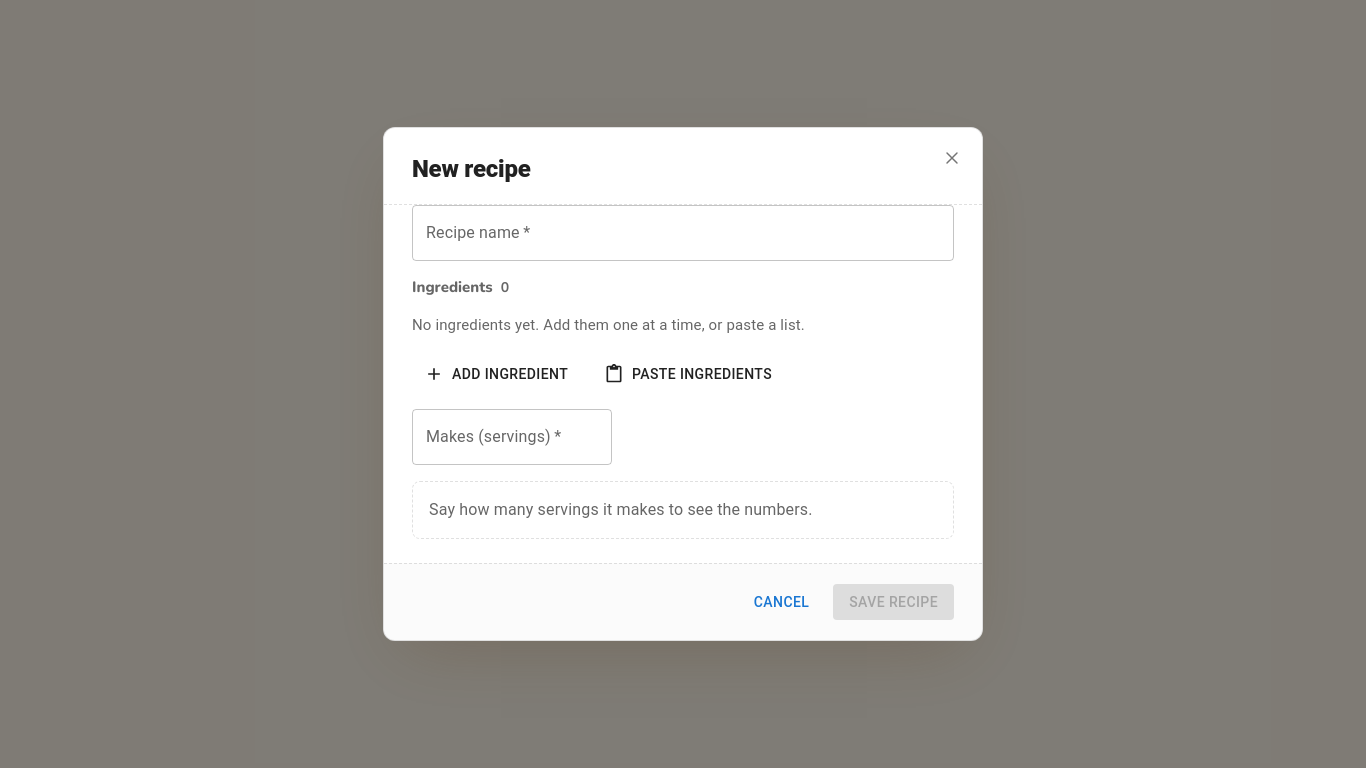
recipe builder: live preview and save › shows per-serving and batch calories from the ingredients and yield
The width and height of the screenshot is (1366, 768).
Click the button "Add ingredient" at (498, 374), box [412, 356, 584, 392]
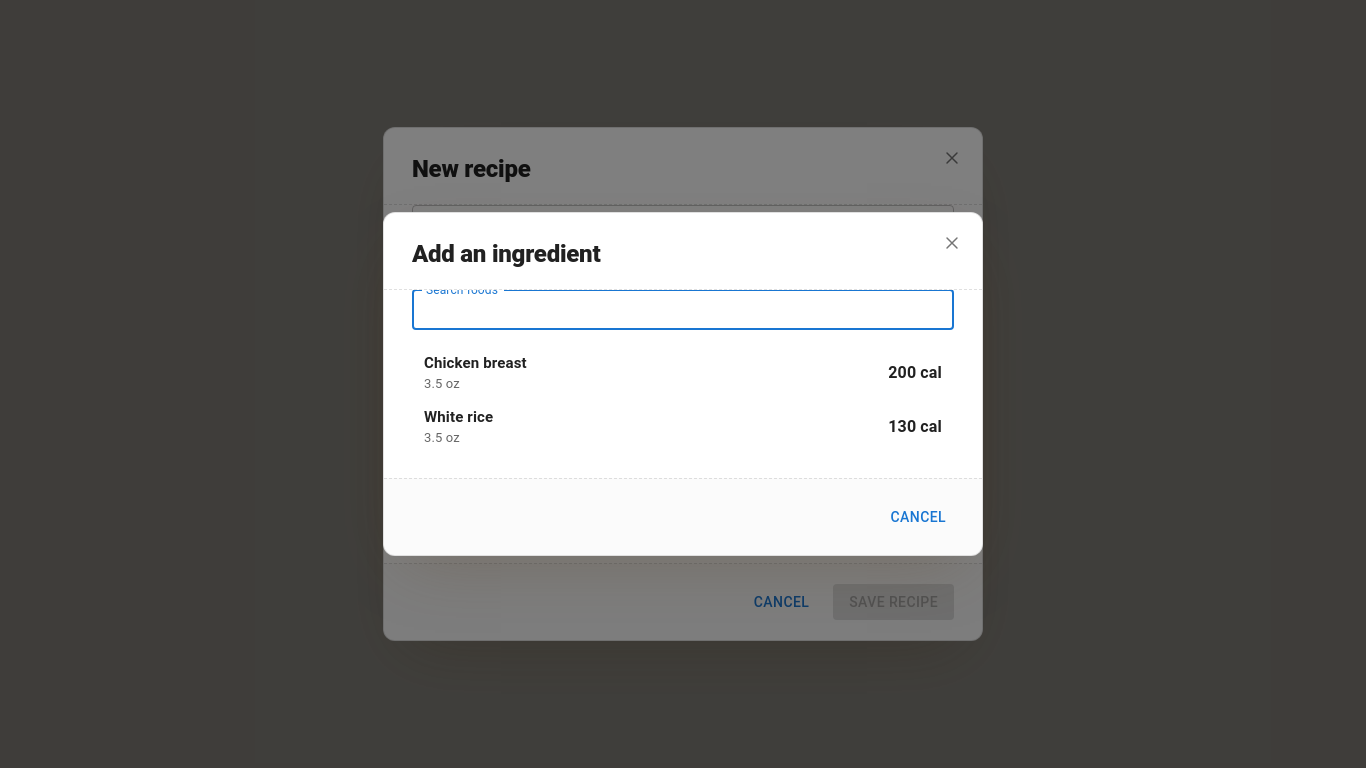
Click the button "Chicken breast 3.5 oz 200 cal" at (475, 363), box [412, 346, 954, 400]
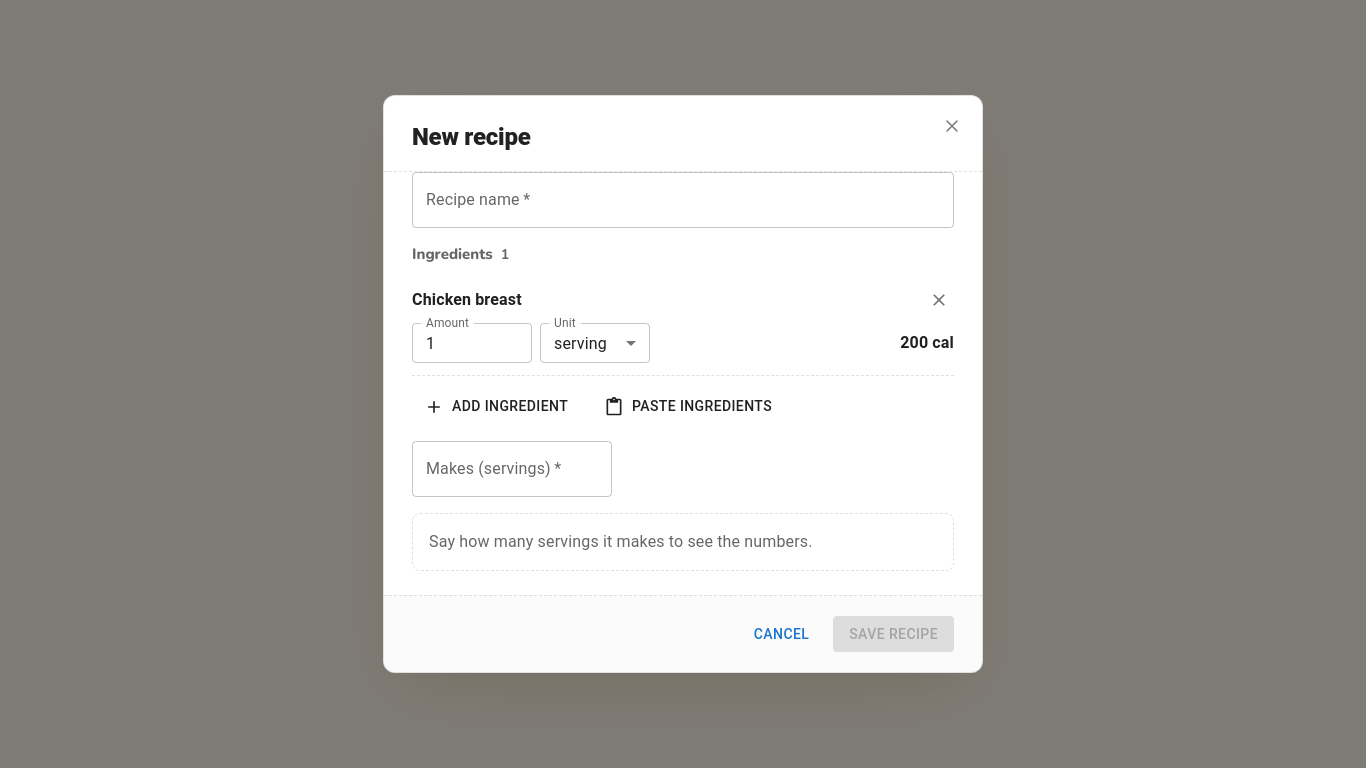
Expected: the label labelled "Search foods" is gone
Replace the text in the number field labelled "Amount" with "2" at (472, 343), box [412, 323, 532, 363]
Click the button "Add ingredient" at (498, 407), box [412, 388, 584, 425]
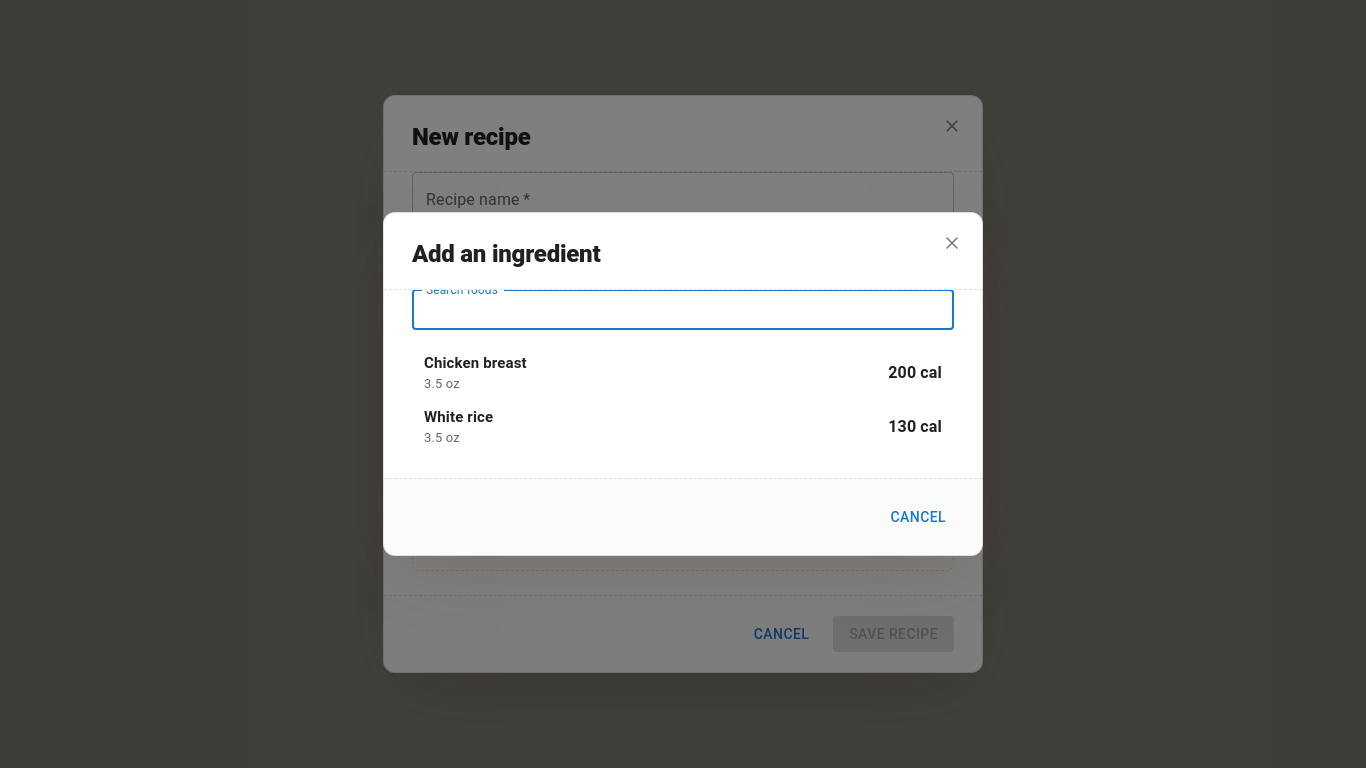
Click the button "White rice 3.5 oz 130 cal" at (459, 417), box [412, 400, 954, 454]
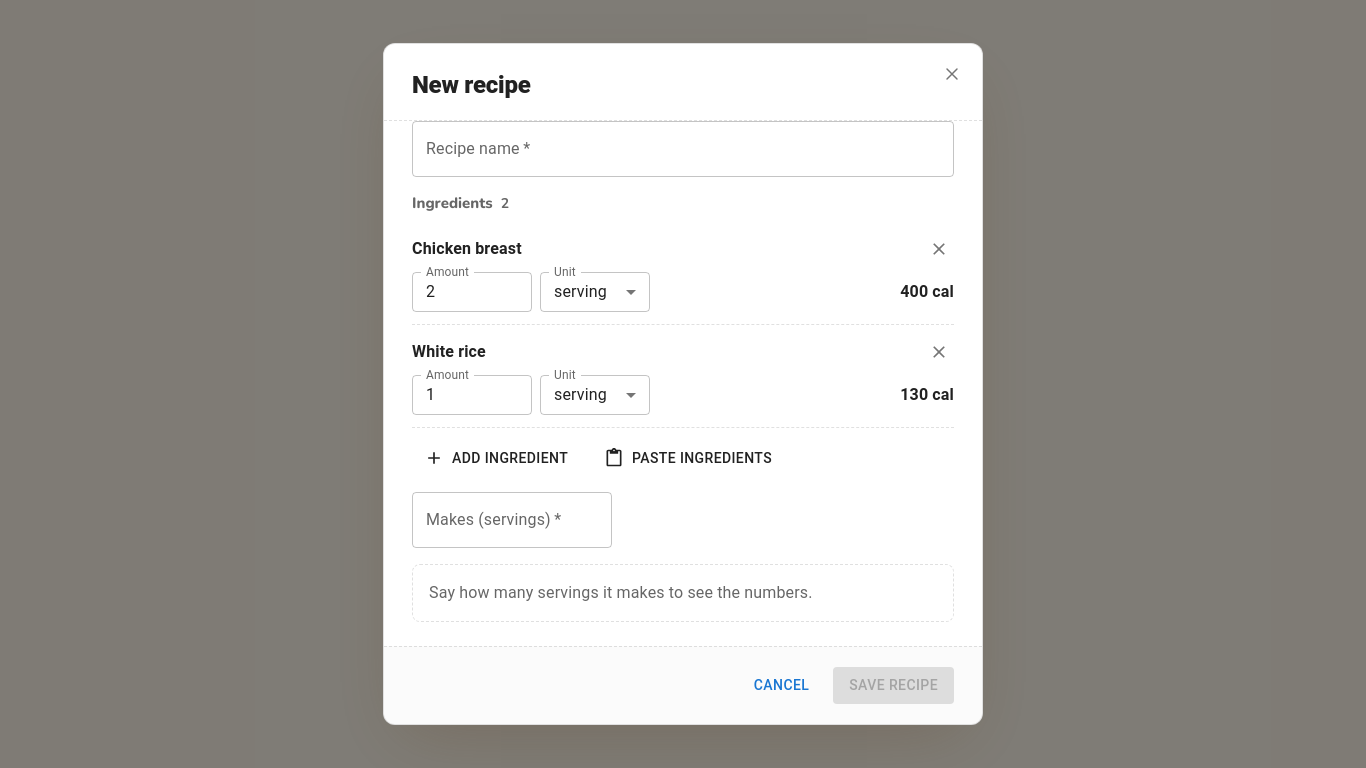
Expected: the label labelled "Search foods" is gone
Select "g" in the dropdown named "Unit for White rice" at (595, 395), box [540, 375, 650, 415]
Replace the text in the number field named "Amount of White rice" with "200" at (472, 395), box [412, 375, 532, 415]
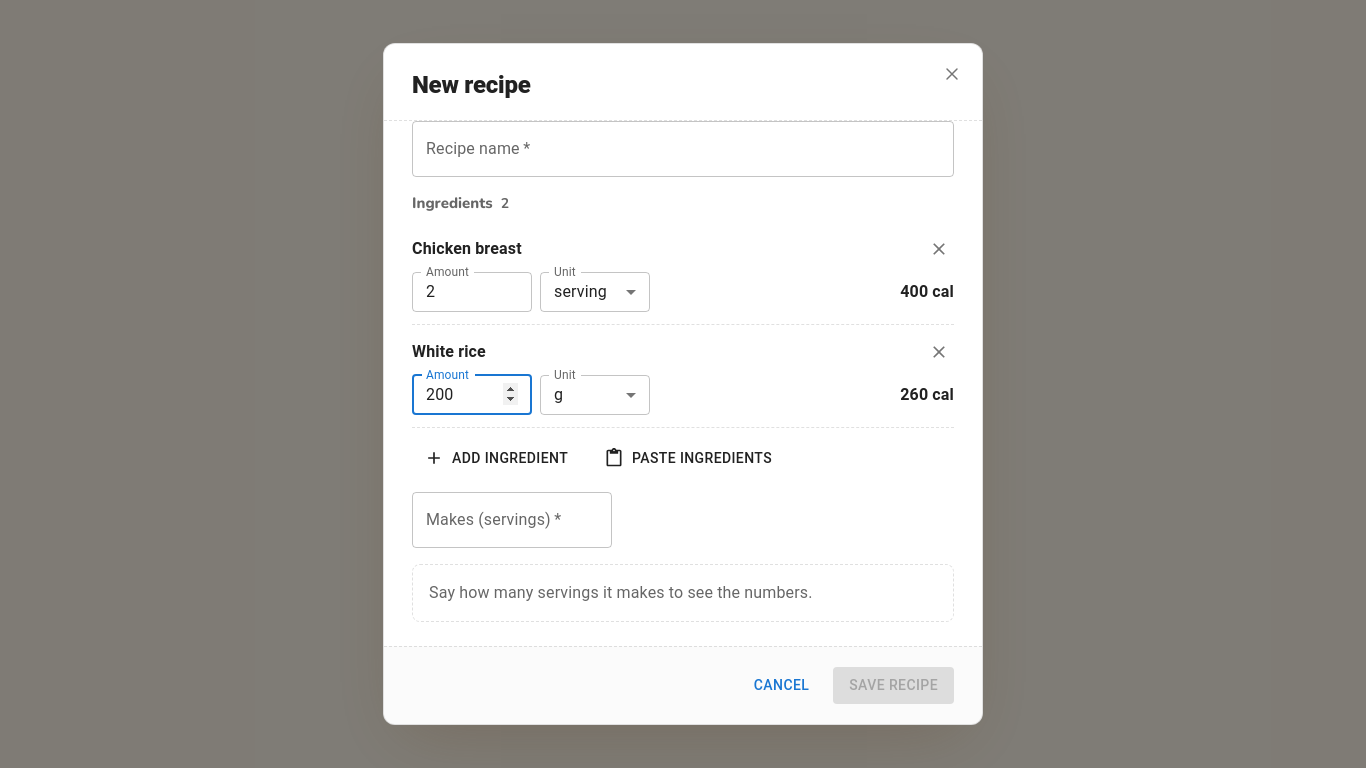
Type "4" into the number field labelled "Makes (servings) *" at (512, 520), box [412, 492, 612, 548]
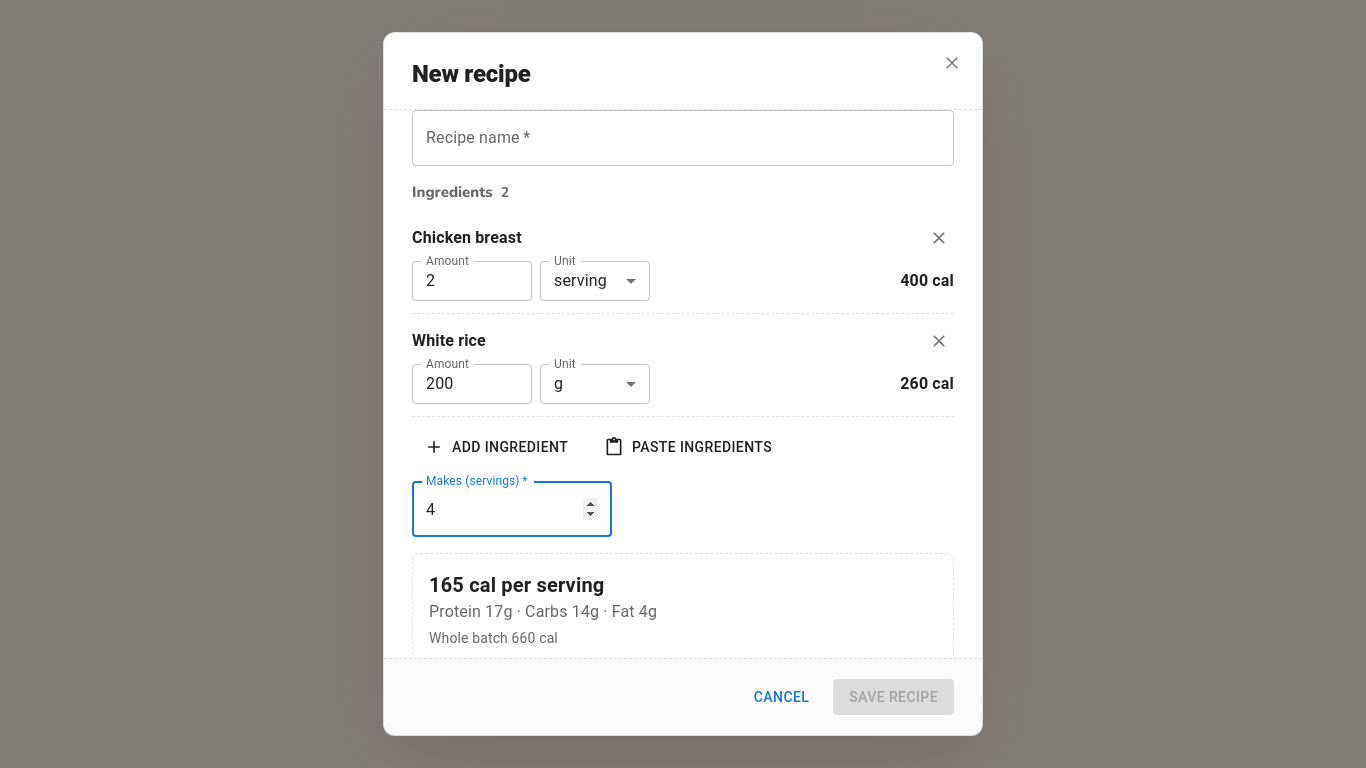
Expected: the text "260 cal" is shown, [900, 372, 954, 396]
Expected: the text "165 cal per serving" is shown, [429, 573, 604, 597]
Expected: the text "Whole batch 660 cal" is shown, [429, 630, 558, 646]
